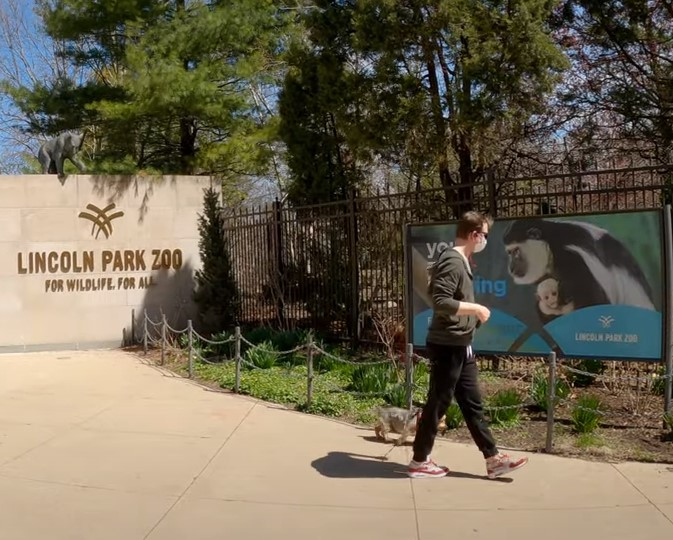face_with_mask: (457, 212, 489, 253)
